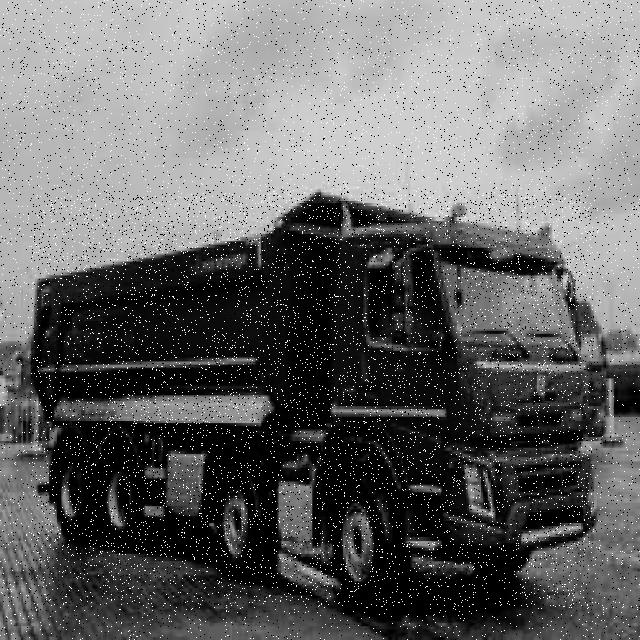Truck- Multi-Axle: (31, 193, 594, 606)
